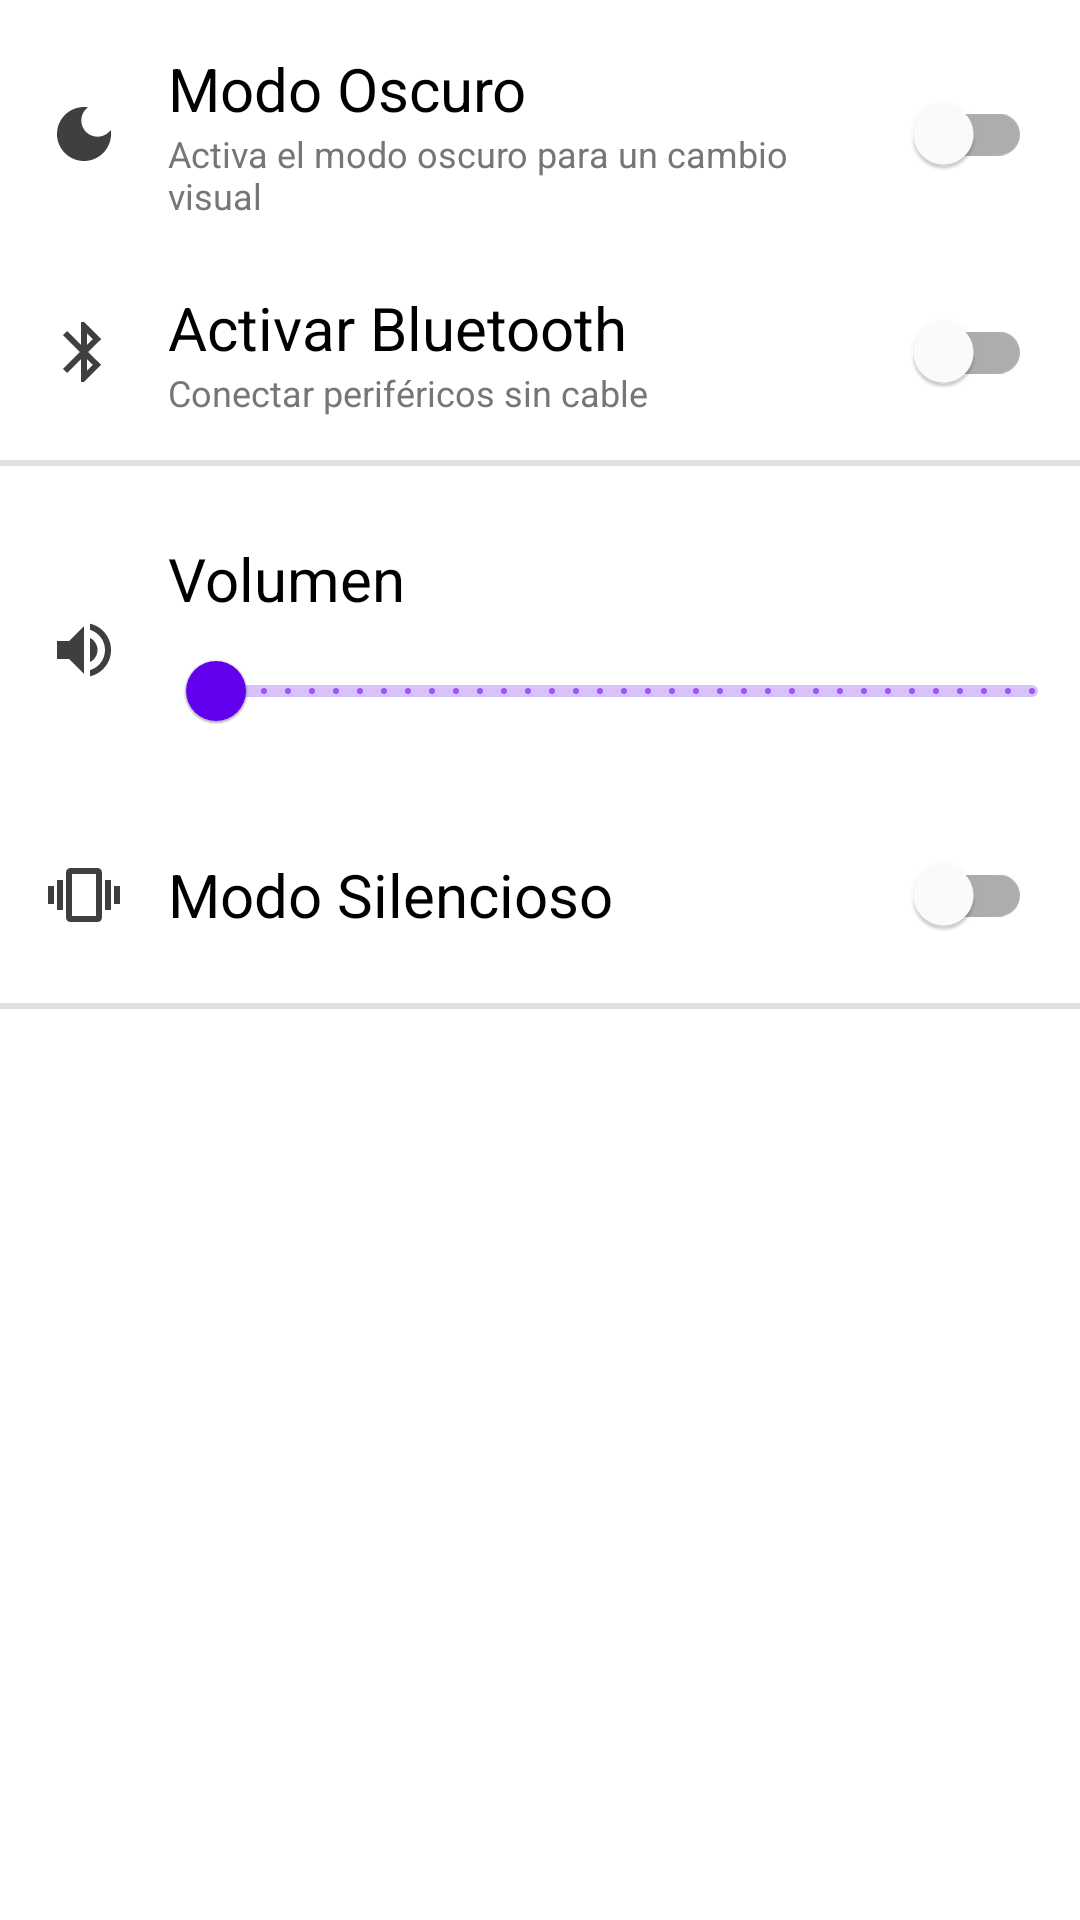

Where icons sit on this 1080x1920 app screen, as (x1, y1, x2, y2):
mode: (57, 107, 111, 161)
vibration: (48, 868, 120, 922)
